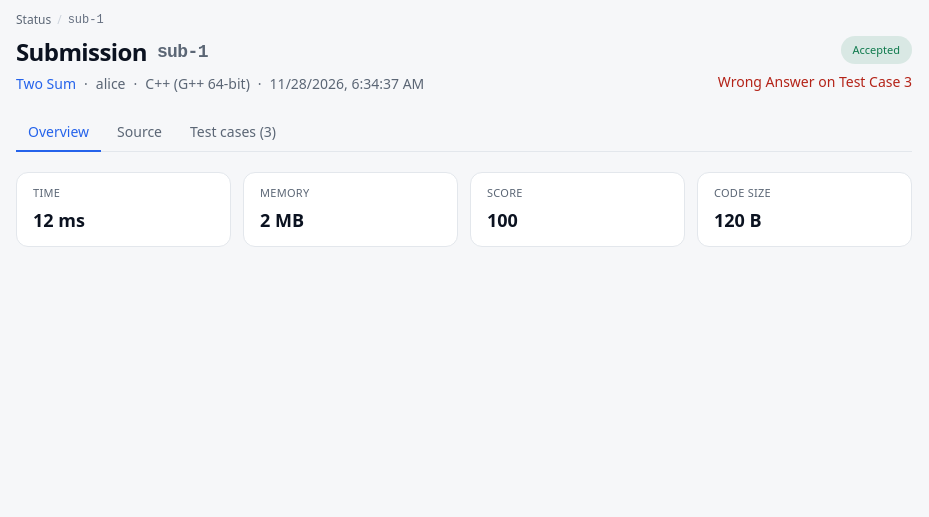
groups cases by subtask when subtask ids are present
The width and height of the screenshot is (929, 517).
Expected: the heading shows "Submission", 16,35 -> 147,68
Expected: the heading shows "sub-1", 157,42 -> 208,62
Click the tab "Test cases (3)".
click(233, 133)  # box 178,114 -> 288,152
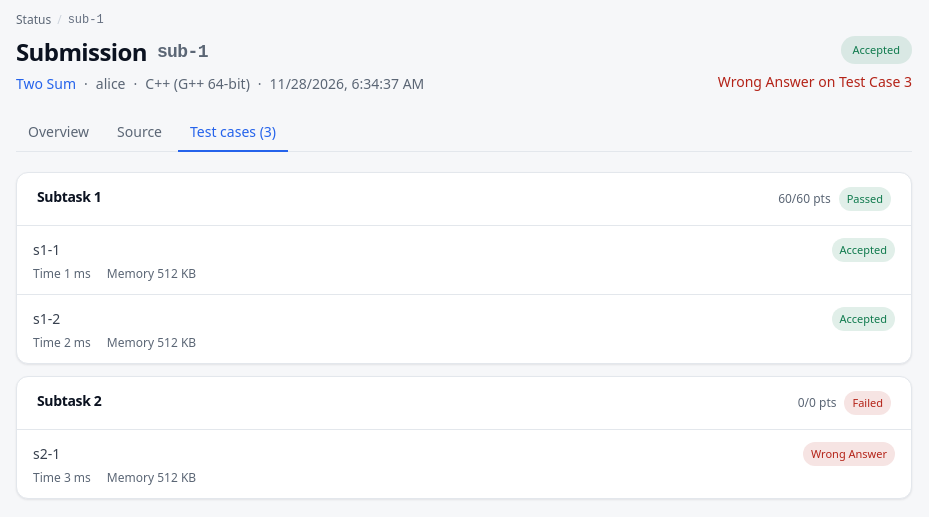
Result: the heading "Subtask 1" is shown at 37,187 -> 102,207
Result: the heading "Subtask 2" is shown at 37,391 -> 102,411
Result: the text "s1-1" is shown at 33,240 -> 60,260
